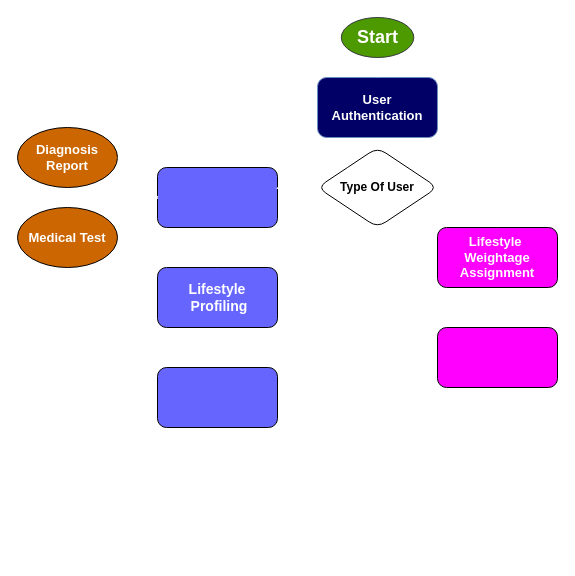
Image size: 575x576. Some labels were removed from this diagram. The shapes that lost their labels are listed below. From the top down, each one's box as (x1, y1, x2, y2) in pixels, then its label:
(156, 166, 278, 228): Health Assessment
(436, 326, 558, 388): Configure Insurance Plans
(156, 366, 278, 428): Browsed & Compare Suggested plans
